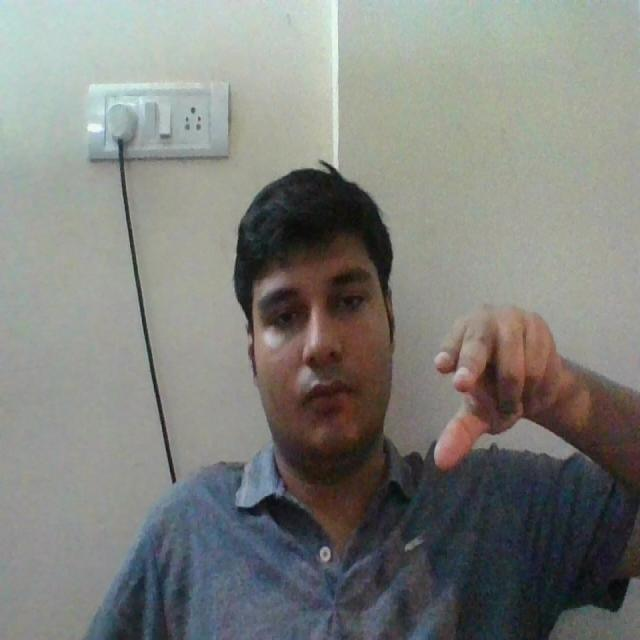no: (427, 287, 569, 498)
